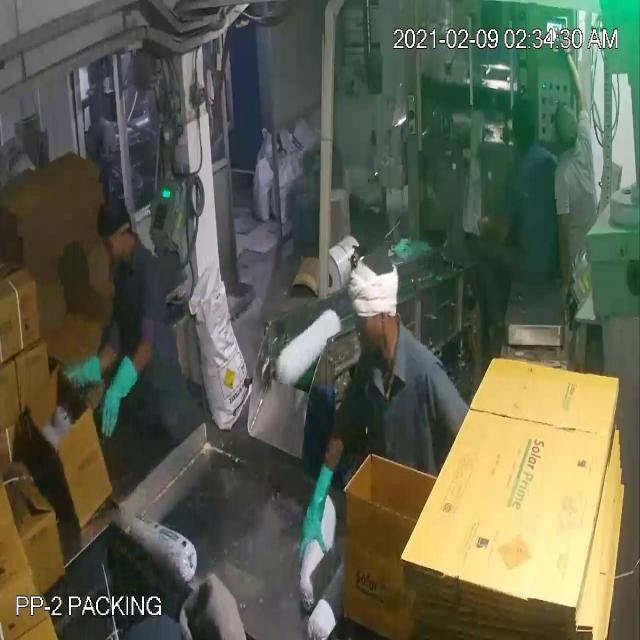Gloves: (46, 55, 314, 514)
